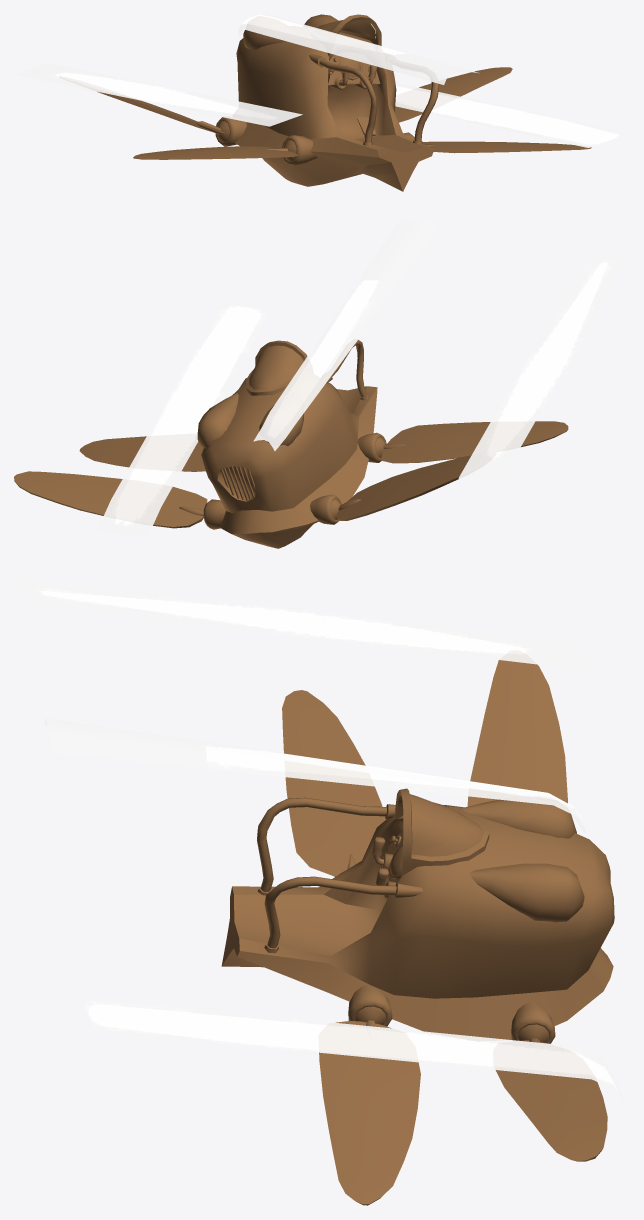
The model's file is ornithopter.glb.
The picture shows the model from 3 angles, top to bottom: view 1: azimuth 30°, elevation 25°; view 2: azimuth 150°, elevation 25°; view 3: azimuth 270°, elevation 25°; orthographic projection. The views are drawn at different scales.
Parts seen in each view (by area): view 1: Plane.004_1, Plane.003_0; view 2: Plane.004_1, Plane.003_0; view 3: Plane.004_1, Plane.003_0.
Part boxes in pixels (x1,y1,x2,y2): Plane.004_1: (97,14,591,191); Plane.003_0: (14,14,629,147); Plane.004_1: (14,340,568,548); Plane.003_0: (97,220,629,537); Plane.004_1: (221,660,614,1205); Plane.003_0: (14,577,629,1111).
Bounding box in the file's own units: 5.24 × 2.17 × 3.83.
2 materials, 2 textured.
